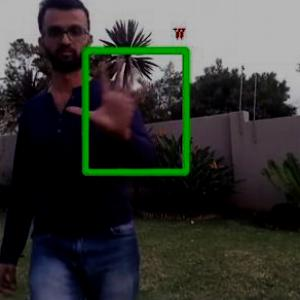follow_hand: (65, 48, 153, 140)
